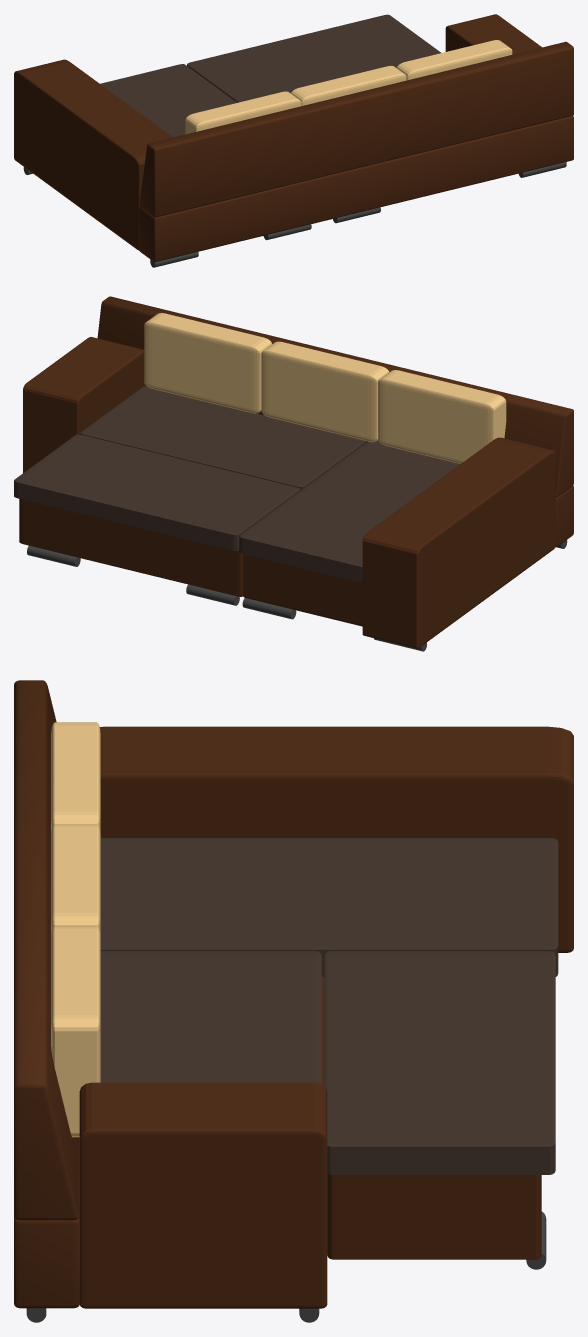
Rendered from Couch.fbx.
3 renders of one model, top to bottom at view 1: azimuth 30°, elevation 25°; view 2: azimuth 150°, elevation 25°; view 3: azimuth 270°, elevation 25°, orthographic. The views are drawn at different scales.
Parts seen in each view (by area): view 1: Couch.001, AddOn.001; view 2: Couch.001, AddOn.001; view 3: Couch.001, AddOn.001.
Part boxes in pixels (x1=…): Couch.001: x1=14, y1=14, x2=573, y2=267; AddOn.001: x1=187, y1=14, x2=440, y2=102; Couch.001: x1=23, y1=296, x2=573, y2=651; AddOn.001: x1=14, y1=434, x2=300, y2=605; Couch.001: x1=14, y1=680, x2=573, y2=1322; AddOn.001: x1=324, y1=951, x2=555, y2=1269.
Size of the model in its own units: 290 by 85.09 by 170.
